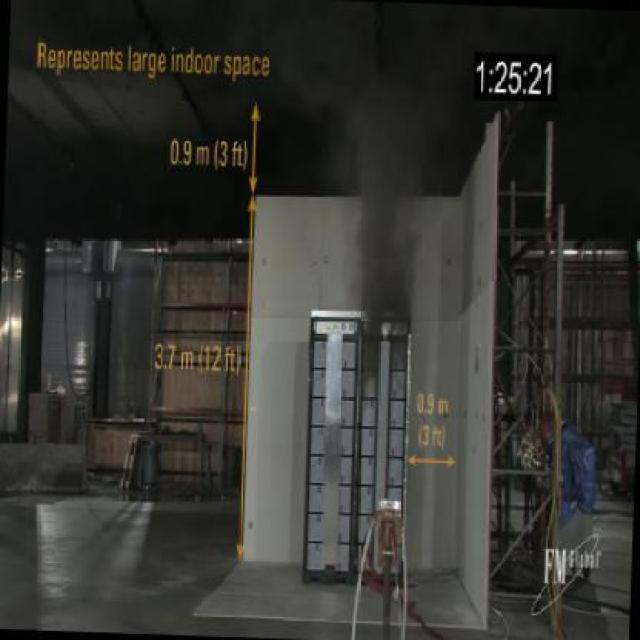fire: (352, 91, 430, 304)
